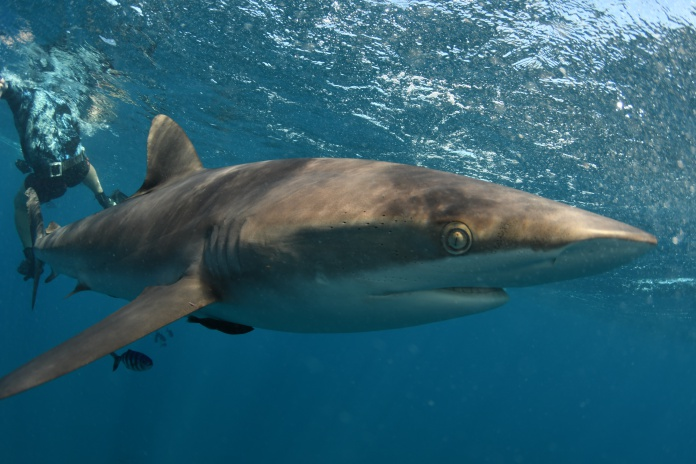Sedoso: (1, 109, 668, 406)
